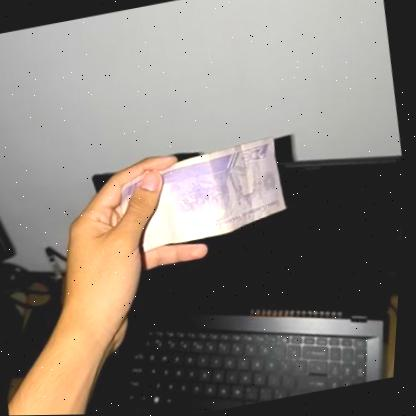ten-back-vef: (156, 136, 295, 246)
